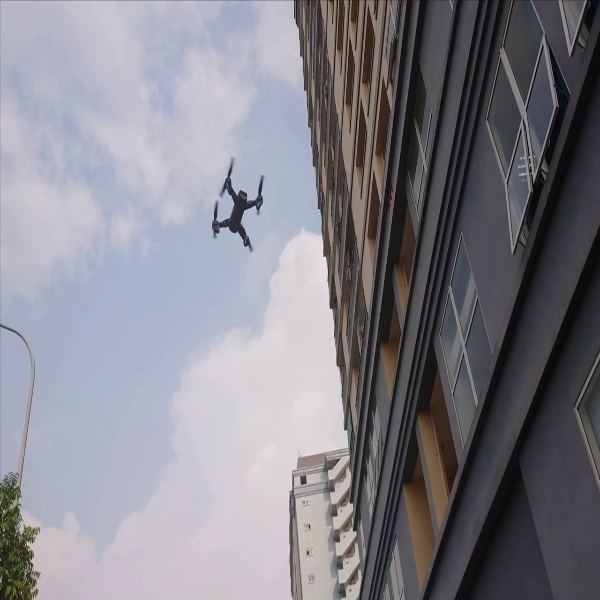drone: (203, 150, 273, 261)
